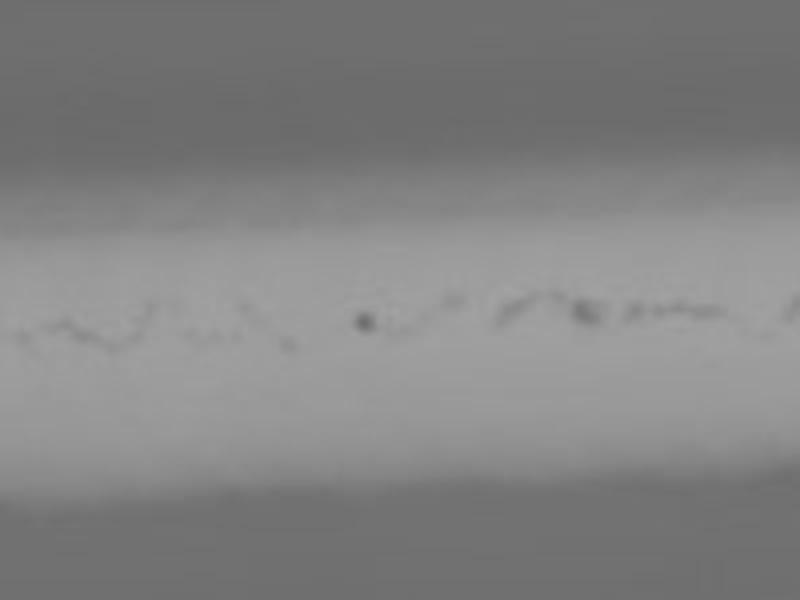defect: (494, 292, 536, 335), (657, 298, 725, 324), (182, 327, 223, 353), (573, 297, 607, 328), (129, 299, 161, 328), (39, 310, 73, 335), (235, 297, 264, 323), (440, 290, 471, 313), (72, 331, 105, 352), (9, 329, 35, 352), (619, 302, 646, 324), (274, 339, 302, 359), (354, 312, 377, 335), (781, 292, 796, 327), (547, 284, 569, 306), (128, 331, 152, 351), (759, 330, 780, 351), (227, 333, 247, 352)
